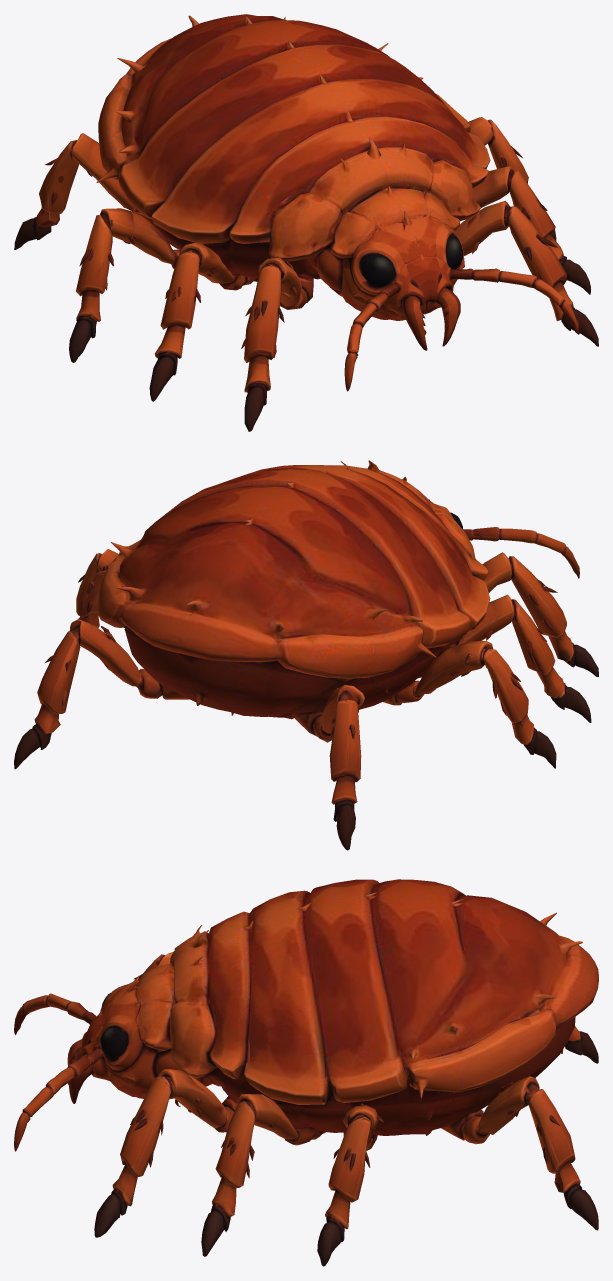
The model's file is boss_bed.glb.
3 views of the same model, one above another, from view 1: azimuth 30°, elevation 25°; view 2: azimuth 150°, elevation 25°; view 3: azimuth 270°, elevation 25° (orthographic). The views are drawn at different scales.
Bounding box in the file's own units: 0.9399 × 0.4609 × 0.9482.
Materials: 1 (1 with a texture image).
